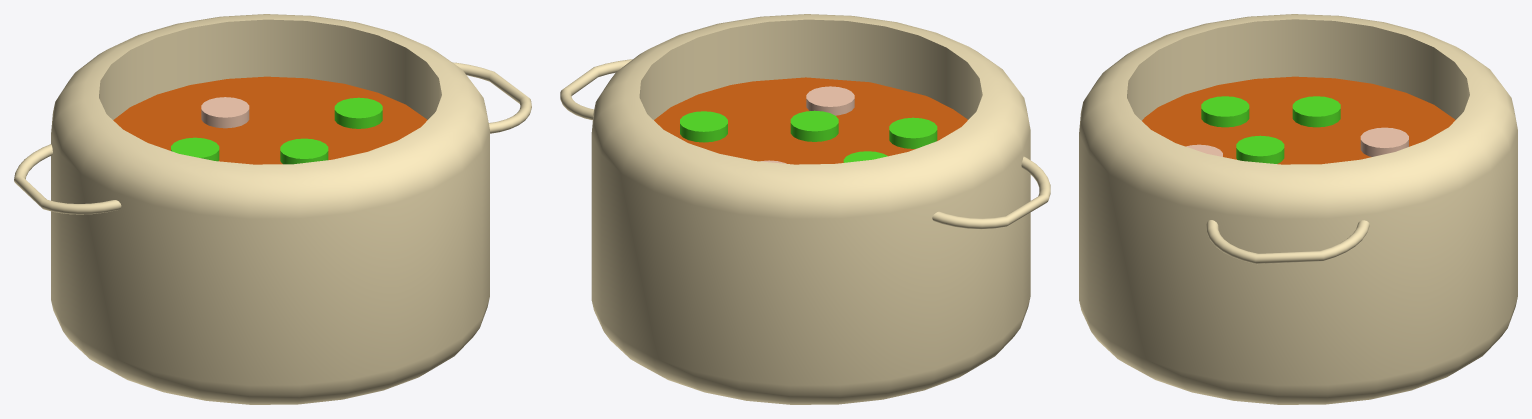
Rendered from 锅和食物.fbx.
3 views of the same model, side by side, from view 1: azimuth 30°, elevation 25°; view 2: azimuth 150°, elevation 25°; view 3: azimuth 270°, elevation 25° (orthographic).
Parts seen in each view (by area): view 1: 圆柱_7; view 2: 圆柱_7; view 3: 圆柱_7.
Part boxes in pixels (x1,y1,x2,y2): 圆柱_7: (14, 14, 531, 404); 圆柱_7: (560, 14, 1050, 404); 圆柱_7: (1079, 14, 1517, 404).
Bounding box in the file's own units: 933 × 444 × 750.
